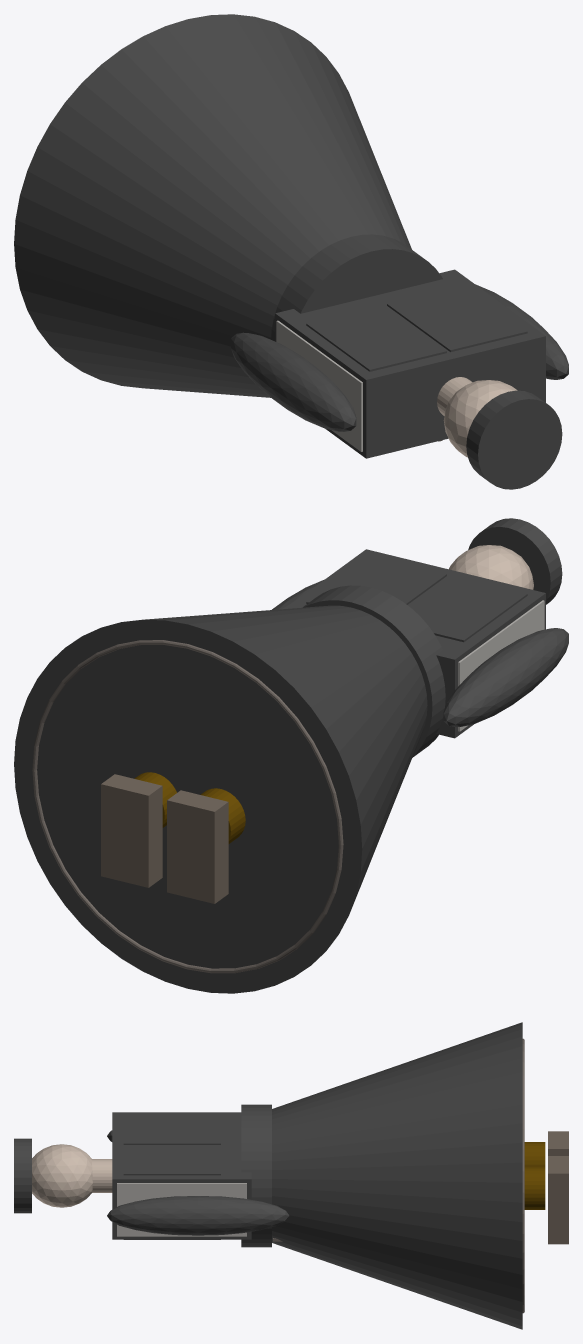
The model's file is MASTER_072_STAGE3_DETAIL.glb.
3 renders of one model, top to bottom at view 1: azimuth 30°, elevation 25°; view 2: azimuth 150°, elevation 25°; view 3: azimuth 270°, elevation 25°, orthographic. The views are drawn at different scales.
Parts seen in each view (by area): view 1: slot_lower_main__fund_i_gjatë, slot_upper_inner__këmishë, slot_waist__brez, slot_headwear__mbulesë_koke, slot_upper_inner_sleeve_L, slot_upper_outer__jelek_L, slot_upper_outer__jelek_R, mannequin_torso, mannequin_head, slot_upper_inner_sleeve_R; view 2: slot_lower_main__fund_i_gjatë, slot_footwear__opinga_R, slot_footwear__opinga_L, slot_upper_inner_sleeve_L, slot_waist__brez, detail_skirt_hem, slot_upper_inner__këmishë, slot_upper_outer__jelek_L, slot_headwear__mbulesë_koke, slot_upper_outer__jelek_R, mannequin_head, mannequin_torso (+2 smaller); view 3: slot_lower_main__fund_i_gjatë, slot_upper_inner_sleeve_R, slot_upper_inner__këmishë, mannequin_head, slot_waist__brez, slot_upper_outer__jelek_R, slot_upper_outer__jelek_L, mannequin_torso, slot_footwear__opinga_R, slot_headwear__mbulesë_koke, slot_legwear__çorape_R, detail_skirt_hem (+3 smaller).
Boxes of the visible parts, bbox=[...] form: slot_lower_main__fund_i_gjatë: bbox=[14, 14, 411, 397]; slot_upper_inner__këmishë: bbox=[275, 269, 545, 458]; slot_waist__brez: bbox=[271, 234, 442, 341]; slot_headwear__mbulesë_koke: bbox=[466, 390, 562, 489]; slot_upper_inner_sleeve_L: bbox=[231, 332, 356, 431]; slot_upper_outer__jelek_L: bbox=[306, 305, 446, 371]; slot_upper_outer__jelek_R: bbox=[387, 285, 527, 351]; mannequin_torso: bbox=[276, 320, 362, 451]; mannequin_head: bbox=[443, 380, 517, 457]; slot_upper_inner_sleeve_R: bbox=[475, 284, 568, 379]; slot_lower_main__fund_i_gjatë: bbox=[14, 605, 427, 993]; slot_footwear__opinga_R: bbox=[101, 774, 162, 887]; slot_footwear__opinga_L: bbox=[167, 790, 228, 903]; slot_upper_inner_sleeve_L: bbox=[443, 628, 568, 726]; slot_waist__brez: bbox=[303, 585, 445, 757]; detail_skirt_hem: bbox=[32, 640, 343, 973]; slot_upper_inner__këmishë: bbox=[285, 549, 545, 738]; slot_upper_outer__jelek_L: bbox=[409, 575, 527, 642]; slot_headwear__mbulesë_koke: bbox=[468, 518, 562, 604]; slot_upper_outer__jelek_R: bbox=[306, 555, 446, 604]; mannequin_head: bbox=[449, 545, 533, 589]; mannequin_torso: bbox=[458, 600, 544, 731]; slot_lower_main__fund_i_gjatë: bbox=[272, 1022, 522, 1329]; slot_upper_inner_sleeve_R: bbox=[107, 1196, 289, 1235]; slot_upper_inner__këmishë: bbox=[112, 1112, 251, 1239]; mannequin_head: bbox=[32, 1144, 92, 1207]; slot_waist__brez: bbox=[241, 1104, 271, 1247]; slot_upper_outer__jelek_R: bbox=[123, 1145, 220, 1239]; slot_upper_outer__jelek_L: bbox=[123, 1115, 220, 1144]; mannequin_torso: bbox=[117, 1183, 246, 1236]; slot_footwear__opinga_R: bbox=[548, 1156, 568, 1244]; slot_headwear__mbulesë_koke: bbox=[14, 1138, 31, 1213]; slot_legwear__çorape_R: bbox=[524, 1166, 545, 1209]; detail_skirt_hem: bbox=[522, 1038, 524, 1313].
Size of the model in its own units: 0.9492 by 0.9492 by 1.71.
